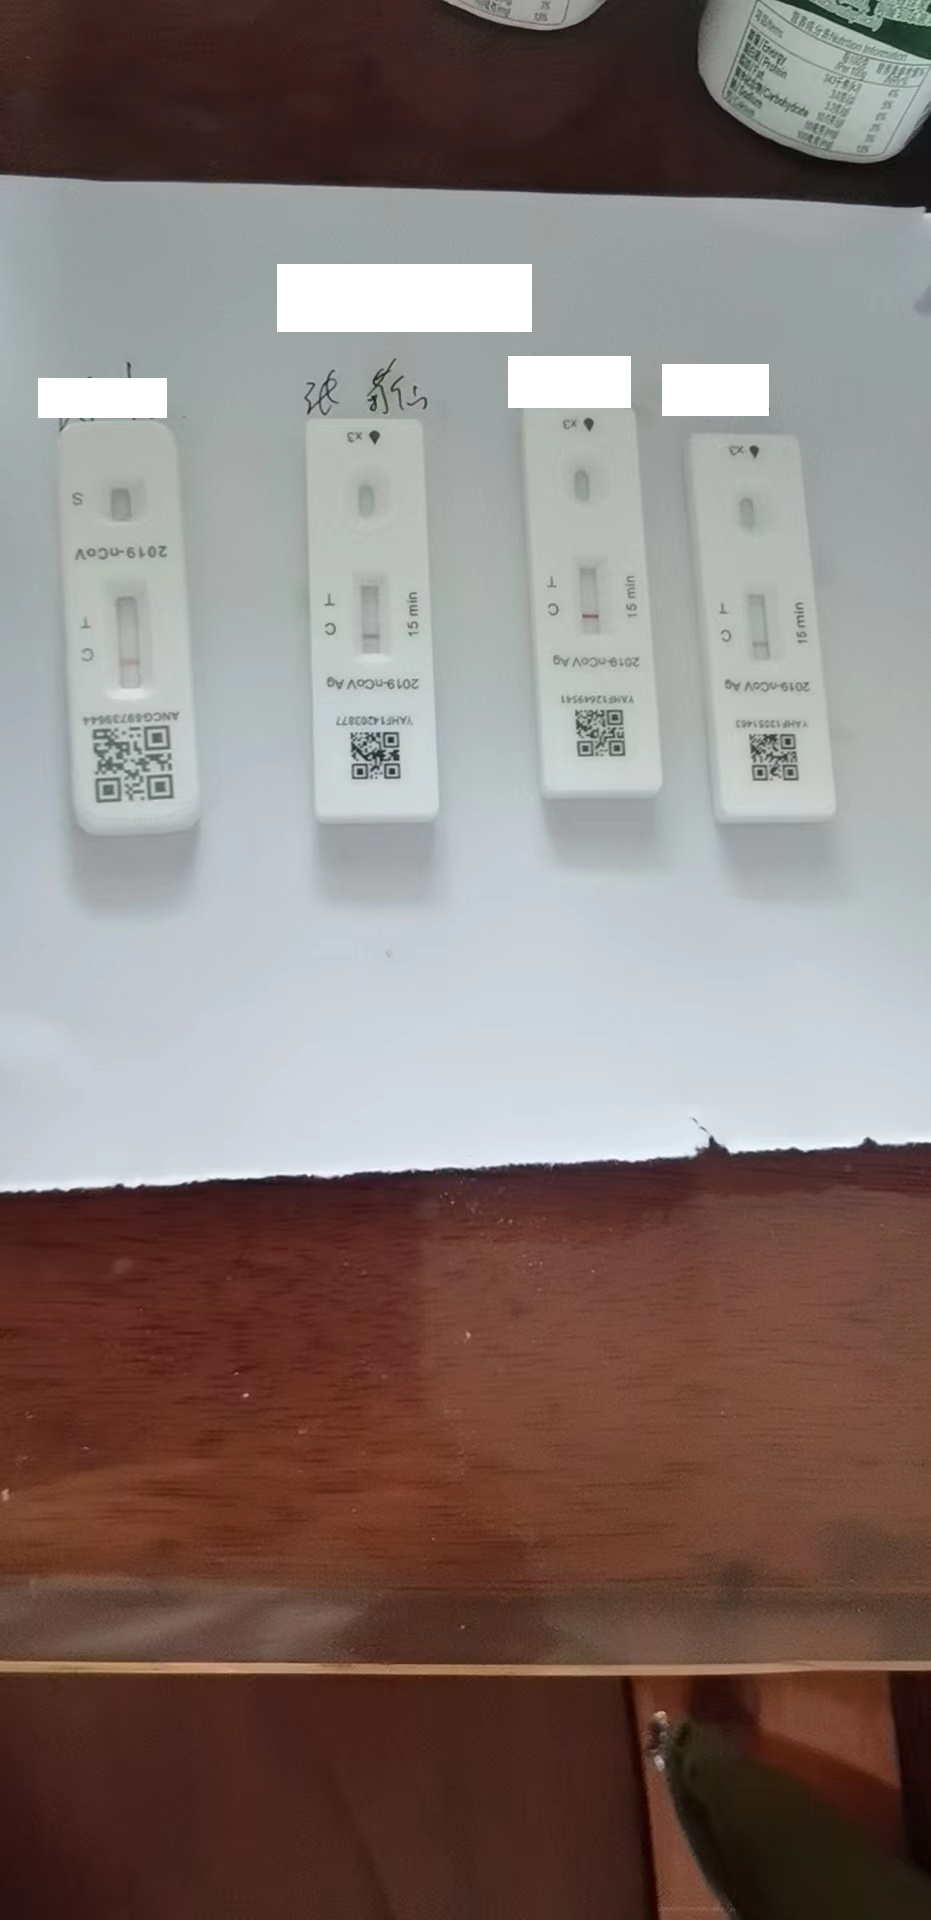negative: (104, 587, 153, 692), (576, 556, 610, 640), (742, 582, 775, 662), (354, 571, 385, 658)
